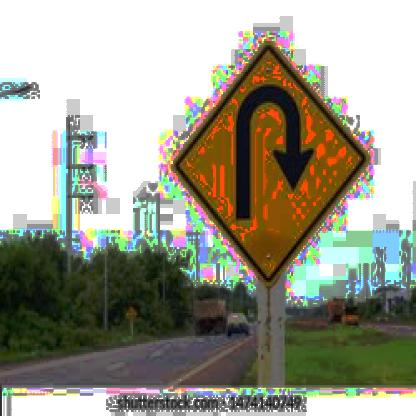U-turn: (166, 40, 372, 286)
